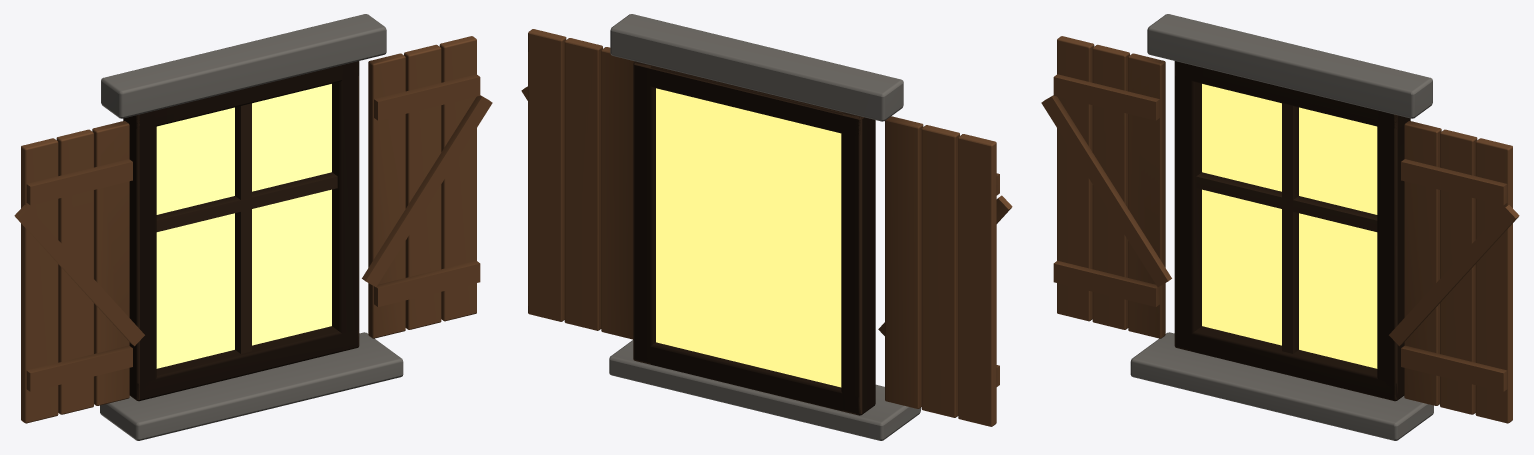
File: window_lit.glb
3 views of the same model, side by side, from view 1: azimuth 30°, elevation 25°; view 2: azimuth 150°, elevation 25°; view 3: azimuth 330°, elevation 25° (orthographic). The views are drawn at different scales.
Parts seen in each view (by area): view 1: Glass, Lintel, Sill, Shutter0Plank0, Shutter2Plank0, Shutter0Plank1, Shutter0Plank2, Shutter2Plank1, Jamb1, Shutter2Plank2, Jamb0, Rail0 (+9 smaller); view 2: Glass, Lintel, Shutter0Plank0, Shutter2Plank1, Shutter0Plank1, Shutter2Plank2, Shutter0Plank2, Jamb0, Shutter2Plank0, Sill, Jamb1, Rail0 (+1 smaller); view 3: Glass, Lintel, Sill, Shutter2Plank2, Shutter0Plank2, Shutter2Plank1, Shutter2Plank0, Shutter0Plank1, Jamb0, Shutter0Plank0, Jamb1, Rail0 (+9 smaller).
Part boxes in pixels (bbox=[...]): Glass: bbox=[156, 84, 331, 368]; Lintel: bbox=[101, 14, 386, 118]; Sill: bbox=[100, 332, 403, 440]; Shutter0Plank0: bbox=[21, 138, 58, 423]; Shutter2Plank0: bbox=[368, 53, 405, 338]; Shutter0Plank1: bbox=[56, 129, 93, 414]; Shutter0Plank2: bbox=[92, 121, 129, 405]; Shutter2Plank1: bbox=[404, 44, 441, 329]; Jamb1: bbox=[332, 61, 359, 351]; Shutter2Plank2: bbox=[439, 36, 476, 321]; Jamb0: bbox=[123, 111, 156, 401]; Rail0: bbox=[135, 326, 358, 400]; Glass: bbox=[656, 88, 841, 387]; Lintel: bbox=[610, 14, 903, 121]; Shutter0Plank0: bbox=[958, 134, 996, 426]; Shutter2Plank1: bbox=[564, 38, 602, 330]; Shutter0Plank1: bbox=[921, 125, 959, 417]; Shutter2Plank2: bbox=[528, 29, 566, 321]; Shutter0Plank2: bbox=[885, 116, 923, 408]; Jamb0: bbox=[841, 112, 875, 415]; Shutter2Plank0: bbox=[601, 47, 634, 339]; Sill: bbox=[609, 340, 920, 440]; Jamb1: bbox=[633, 61, 655, 364]; Rail0: bbox=[638, 342, 860, 415]; Glass: bbox=[1202, 84, 1377, 368]; Lintel: bbox=[1147, 14, 1432, 118]; Sill: bbox=[1130, 332, 1433, 440]; Shutter2Plank2: bbox=[1475, 138, 1512, 423]; Shutter0Plank2: bbox=[1128, 53, 1165, 338]; Shutter2Plank1: bbox=[1440, 129, 1477, 414]; Shutter2Plank0: bbox=[1404, 121, 1441, 405]; Shutter0Plank1: bbox=[1092, 44, 1129, 329]; Jamb0: bbox=[1174, 62, 1201, 351]; Shutter0Plank0: bbox=[1057, 36, 1094, 321]; Jamb1: bbox=[1377, 111, 1410, 401]; Rail0: bbox=[1175, 326, 1403, 401].
Bounding box in the file's own units: 2.13 × 1.45 × 0.3.
